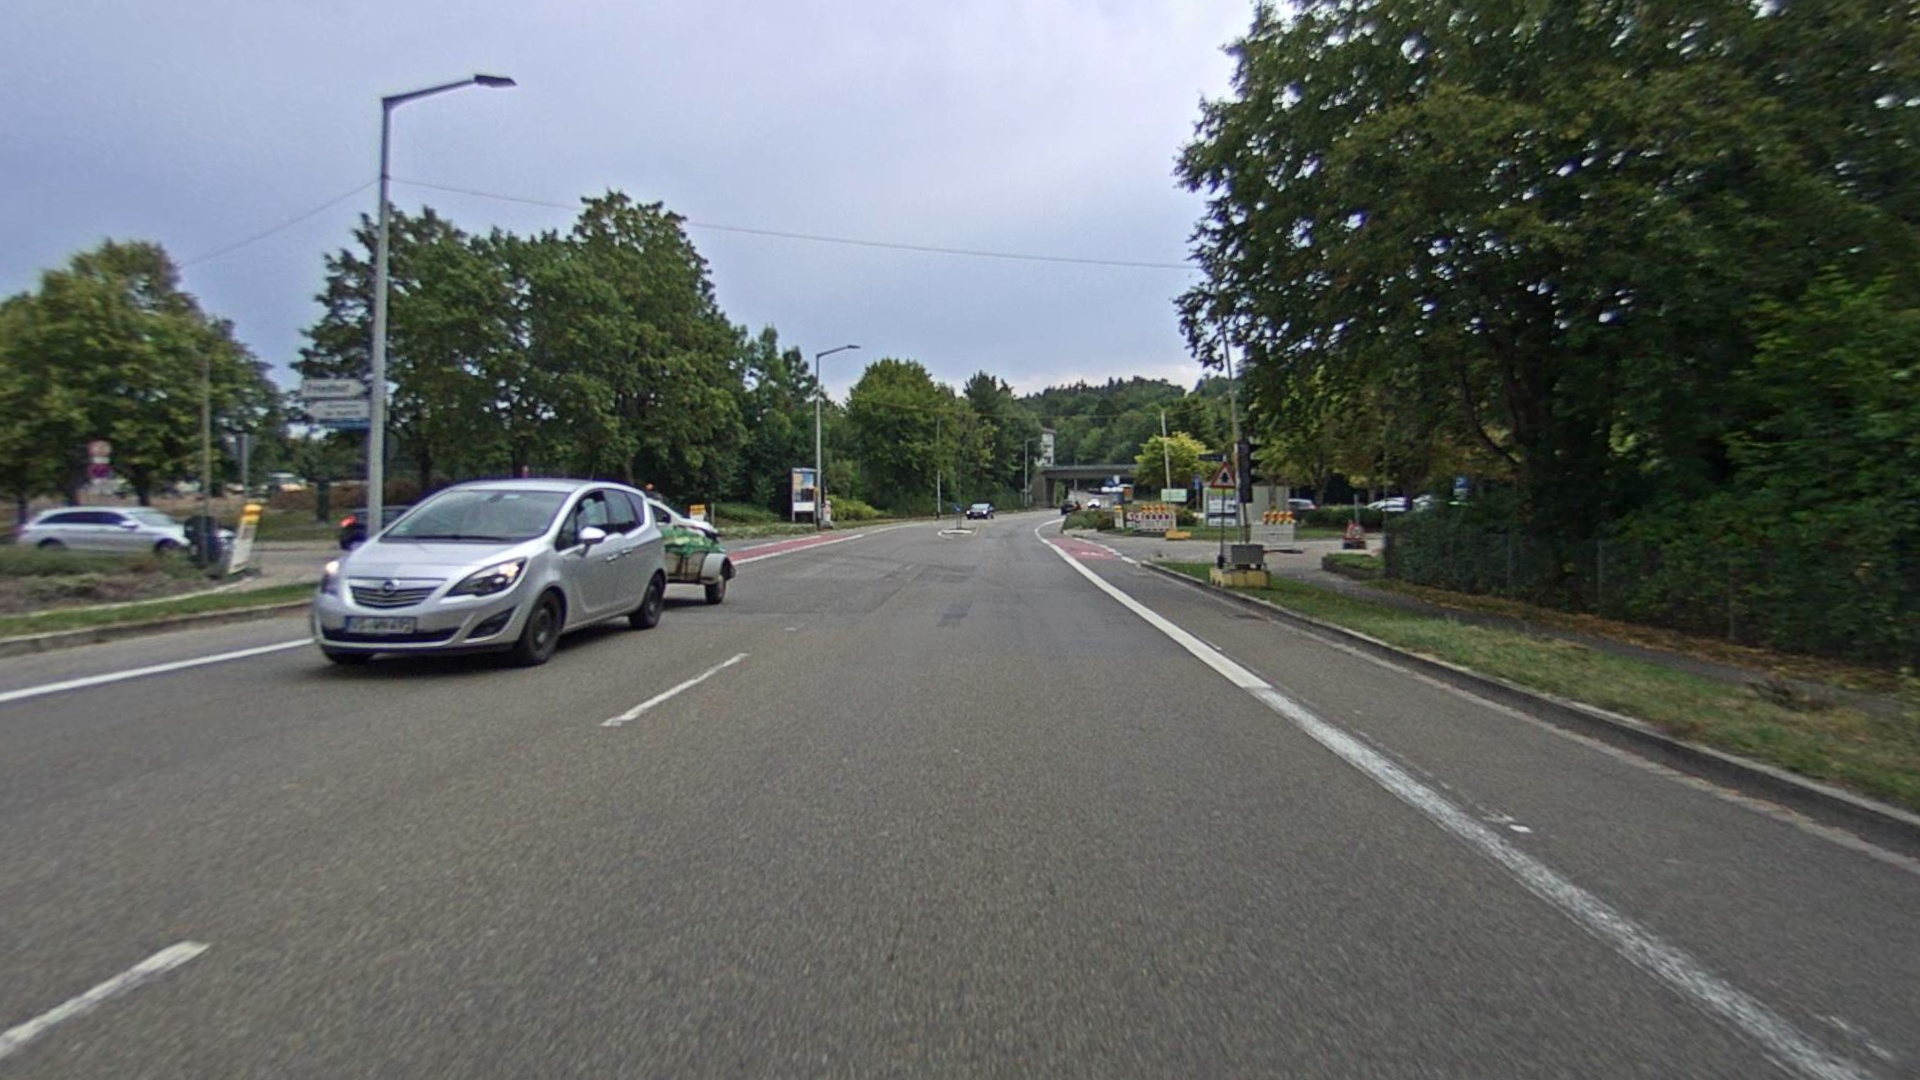car: (305, 473, 673, 665)
